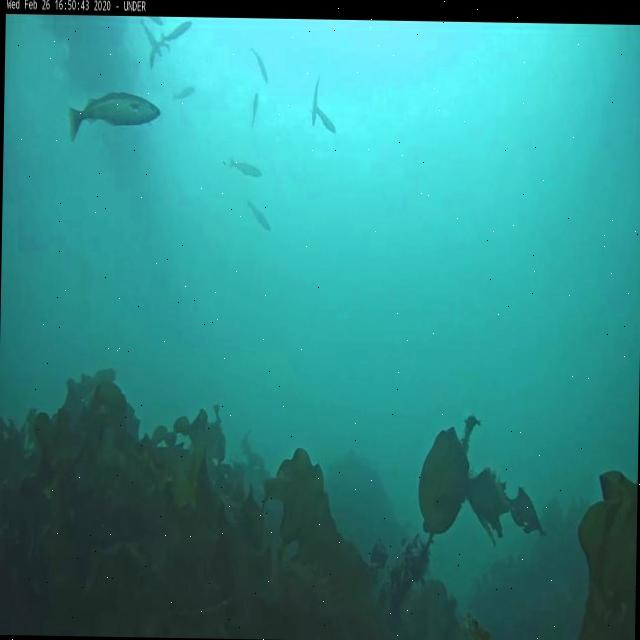fish: (70, 93, 162, 142), (246, 196, 272, 232), (139, 22, 163, 58), (226, 158, 262, 180), (166, 17, 194, 41), (252, 52, 270, 84), (310, 80, 320, 129), (318, 112, 336, 134), (174, 87, 197, 101), (250, 94, 260, 126)
